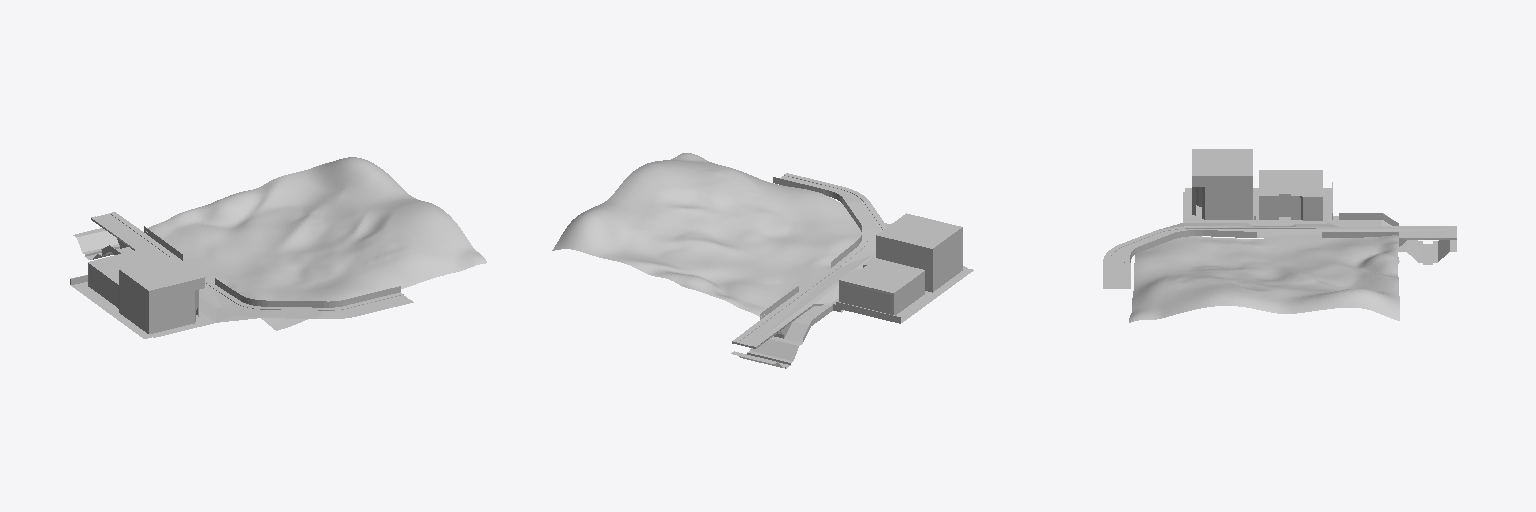
The model's file is urbex.obj.
3 views of the same model, side by side, from view 1: azimuth 30°, elevation 25°; view 2: azimuth 150°, elevation 25°; view 3: azimuth 270°, elevation 25° (orthographic).
Parts seen in each view (by area): view 1: Plane.002, Plane.001, Cube.001, Cube, Plane; view 2: Plane.002, Plane.001, Cube.001, Cube, Plane; view 3: Plane.002, Plane.001, Cube.001, Cube, Plane.
Boxes of the visible parts, x1,y1,x2,y2 form: Plane.002: [146, 157, 486, 330]; Plane.001: [70, 212, 413, 322]; Cube.001: [119, 255, 204, 333]; Cube: [88, 249, 154, 308]; Plane: [71, 282, 215, 338]; Plane.002: [552, 153, 890, 316]; Plane.001: [731, 173, 900, 368]; Cube.001: [876, 213, 962, 292]; Cube: [839, 257, 924, 315]; Plane: [832, 266, 973, 322]; Plane.002: [1129, 235, 1399, 322]; Plane.001: [1103, 182, 1456, 288]; Cube.001: [1192, 149, 1252, 219]; Cube: [1259, 170, 1322, 220]; Plane: [1183, 188, 1331, 225].
Bounding box in the file's own units: 153 × 31 × 147.